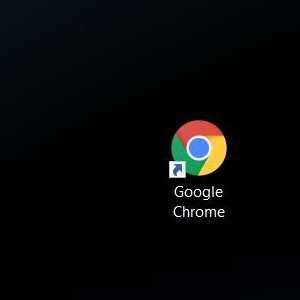chrome: (168, 119, 227, 178)
